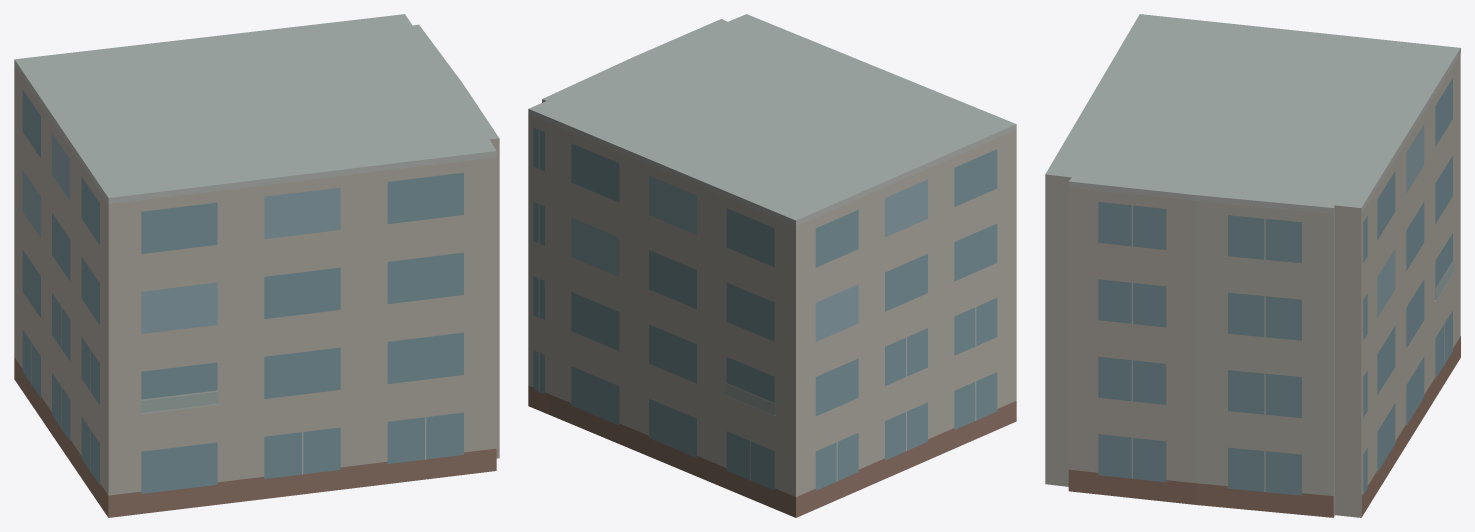
Rendered from survey-upis-33007254.glb.
3 views of the same model, side by side, from view 1: azimuth 30°, elevation 25°; view 2: azimuth 150°, elevation 25°; view 3: azimuth 270°, elevation 25° (orthographic). The views are drawn at different scales.
Parts seen in each view (by area): view 1: survey-upis-33007254.tmp; view 2: survey-upis-33007254.tmp; view 3: survey-upis-33007254.tmp.
Part boxes in pixels (x1,y1,x2,y2): survey-upis-33007254.tmp: (14,14,499,517); survey-upis-33007254.tmp: (528,14,1016,517); survey-upis-33007254.tmp: (1045,14,1460,517).
Size of the model in its own units: 17.21 by 12.8 by 15.57.
